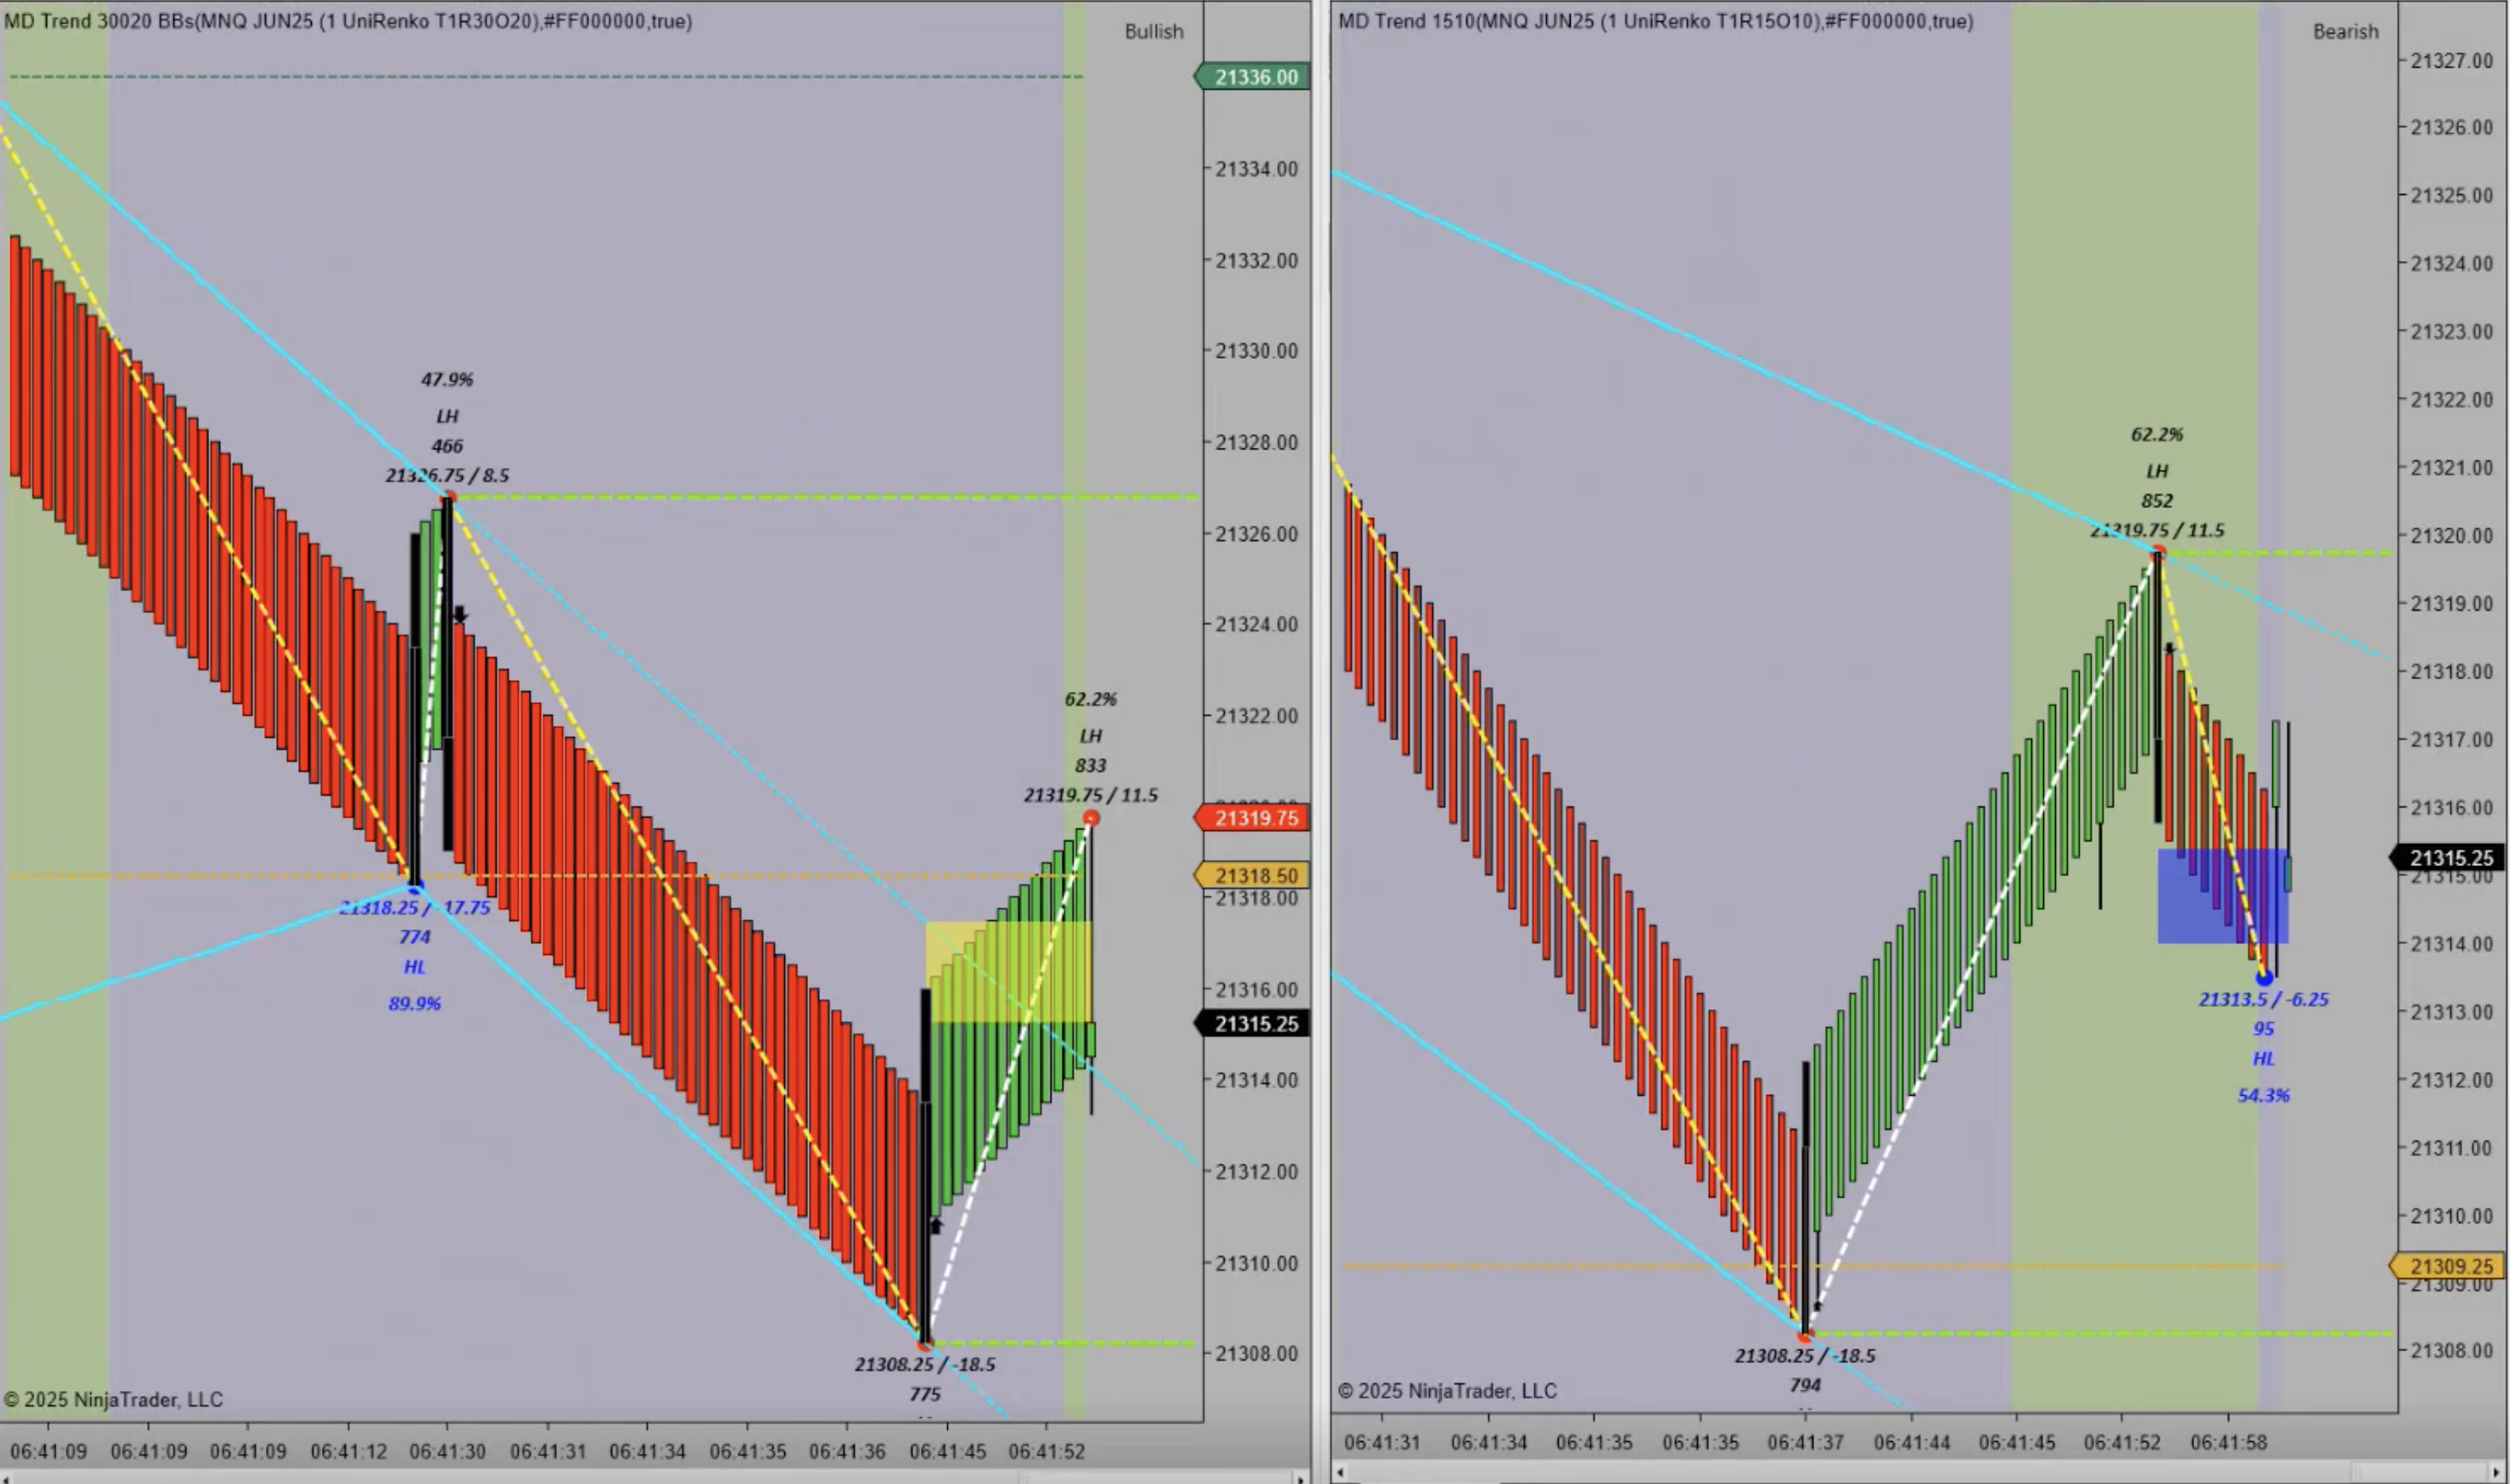candle: (436, 495, 463, 864), (406, 532, 429, 878), (2150, 546, 2174, 834), (917, 989, 936, 1336), (1798, 1062, 1821, 1339)
